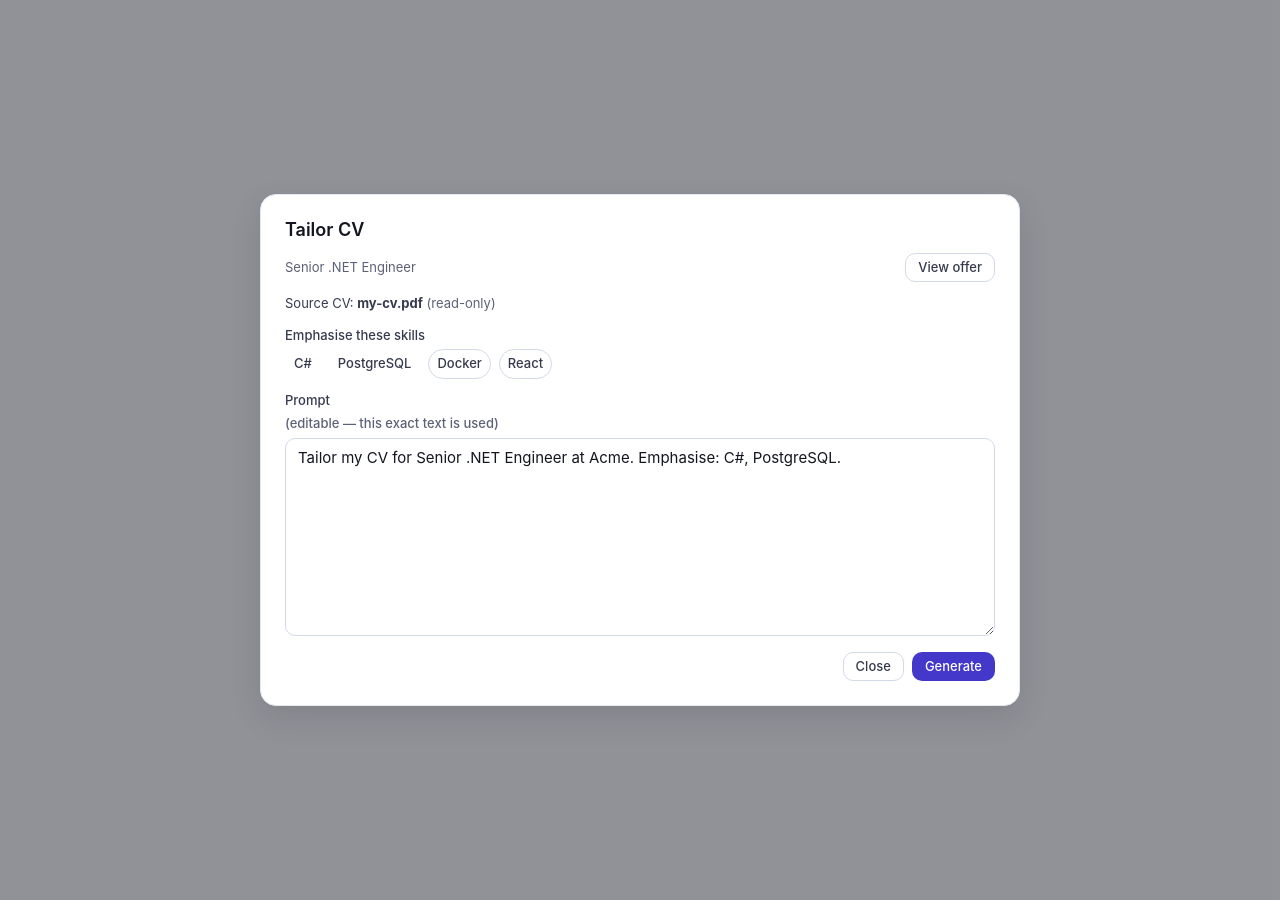
Scenario: TailorCvModal — edit + toggle + regenerate (US2, T035) › toggling a skill recomposes the visible prompt while it is the unedited default
The width and height of the screenshot is (1280, 900).
Check: the text box with test id "tailor-prompt" is shown, box 285,438 -> 995,636
Click the button "Docker" at (460, 364), box 428,349 -> 491,378
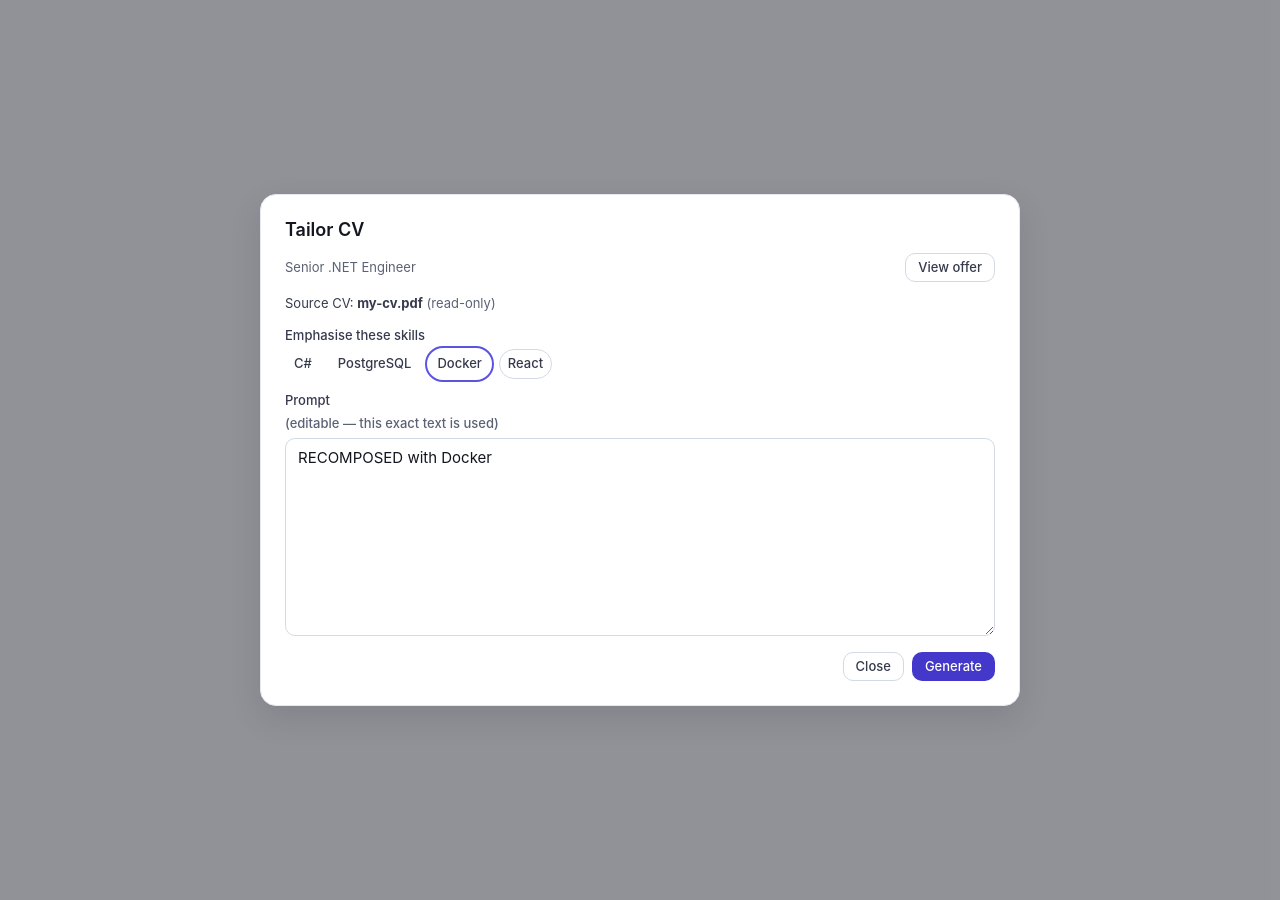
Check: the text box showing "RECOMPOSED with Docker" is shown, box 285,438 -> 995,636
